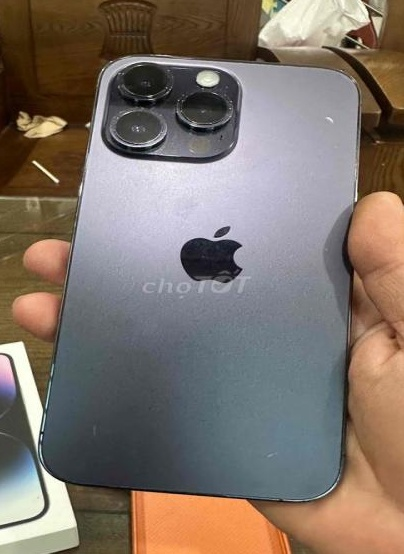scratch: (105, 59, 239, 160), (262, 443, 291, 460), (322, 113, 345, 134), (89, 420, 104, 441)
